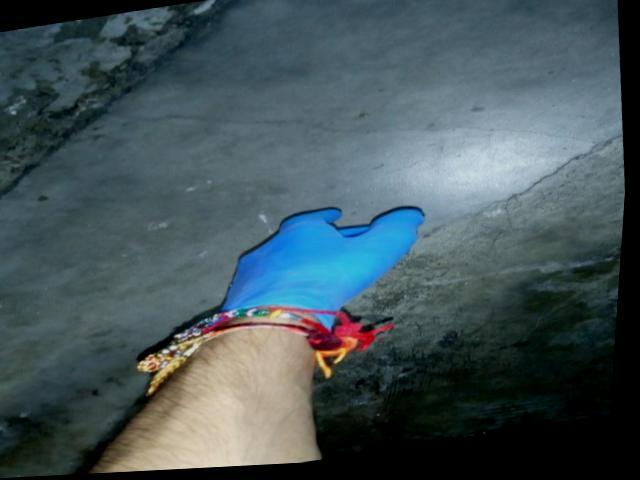Hand-in-Glove: (172, 184, 460, 359)
